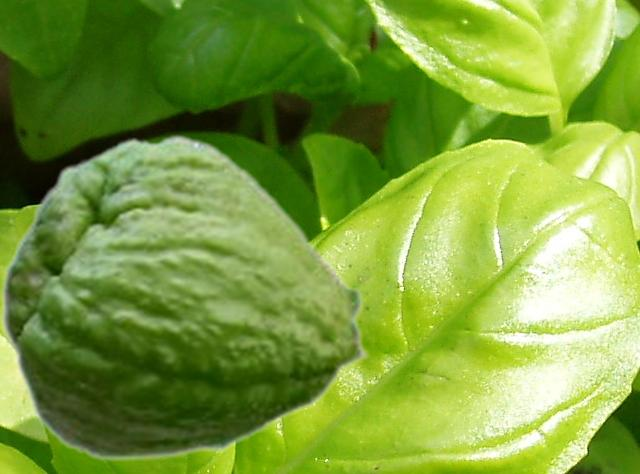sayote: (0, 133, 371, 462)
